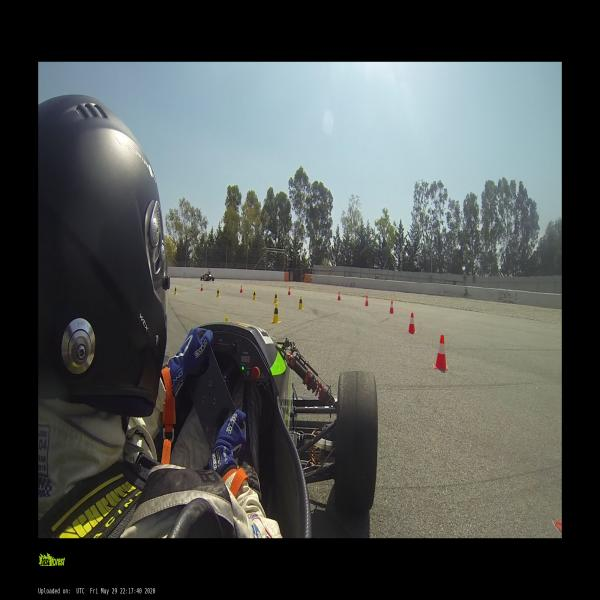orange_cone: (434, 335, 448, 370), (407, 312, 416, 334), (388, 301, 393, 314), (364, 296, 369, 306), (337, 292, 341, 300), (239, 285, 243, 293), (287, 288, 291, 295), (200, 284, 203, 291)
yellow_cone: (270, 303, 281, 324), (297, 296, 304, 310), (272, 292, 278, 304), (173, 286, 178, 295), (252, 291, 256, 300), (216, 288, 220, 297), (225, 317, 228, 322)
